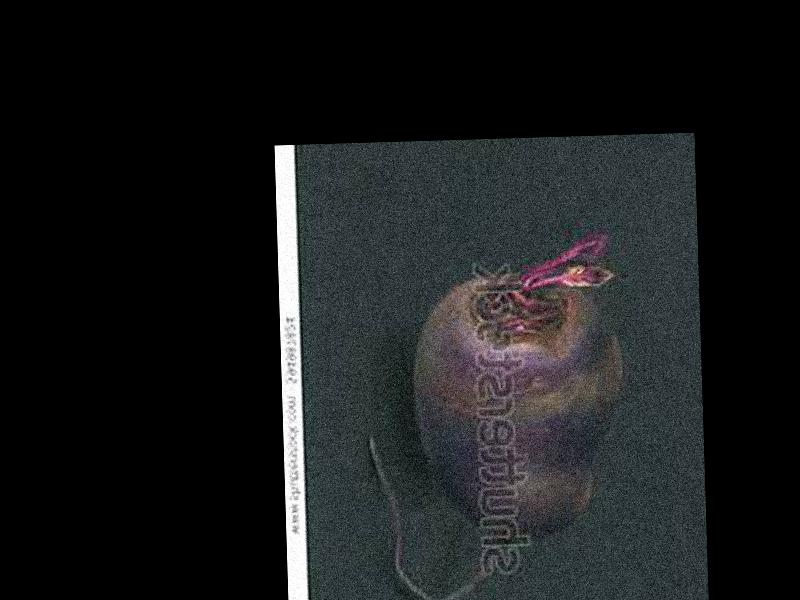Beet: (363, 225, 630, 600)
